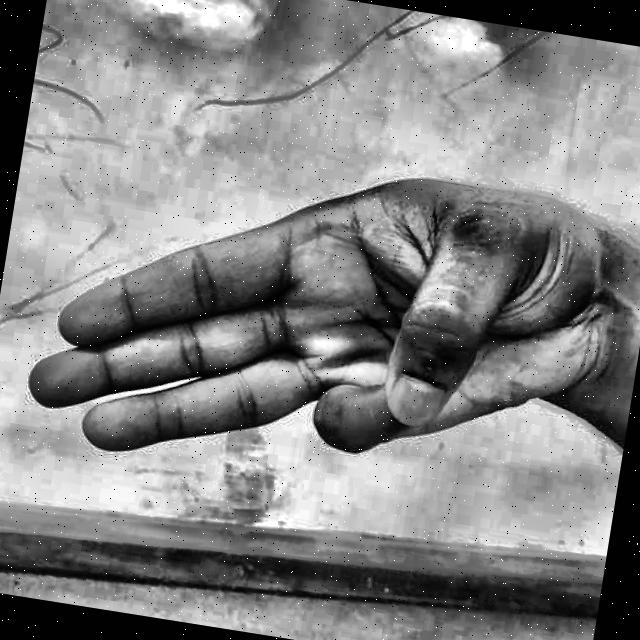Ma: (0, 98, 639, 561)
